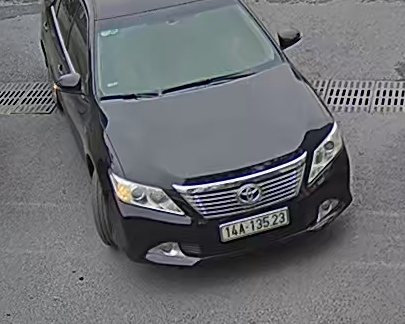vehicle plate: (217, 207, 292, 249)
